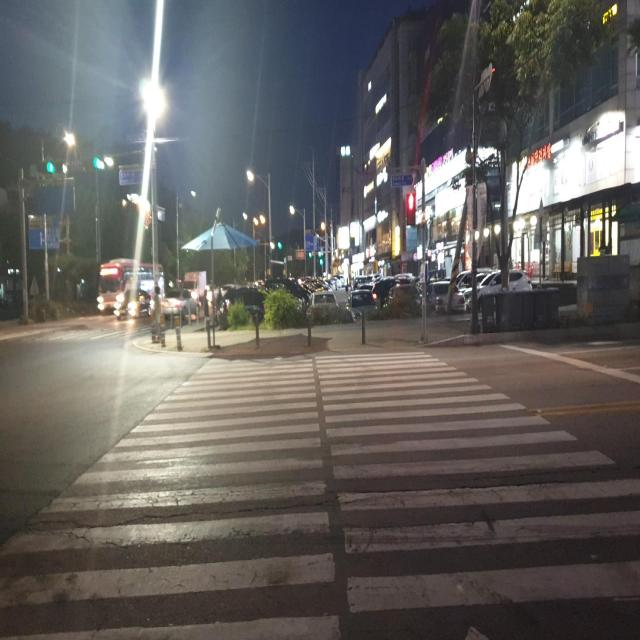빨간불: (406, 192, 416, 226)
횡단보도: (0, 347, 638, 640)
